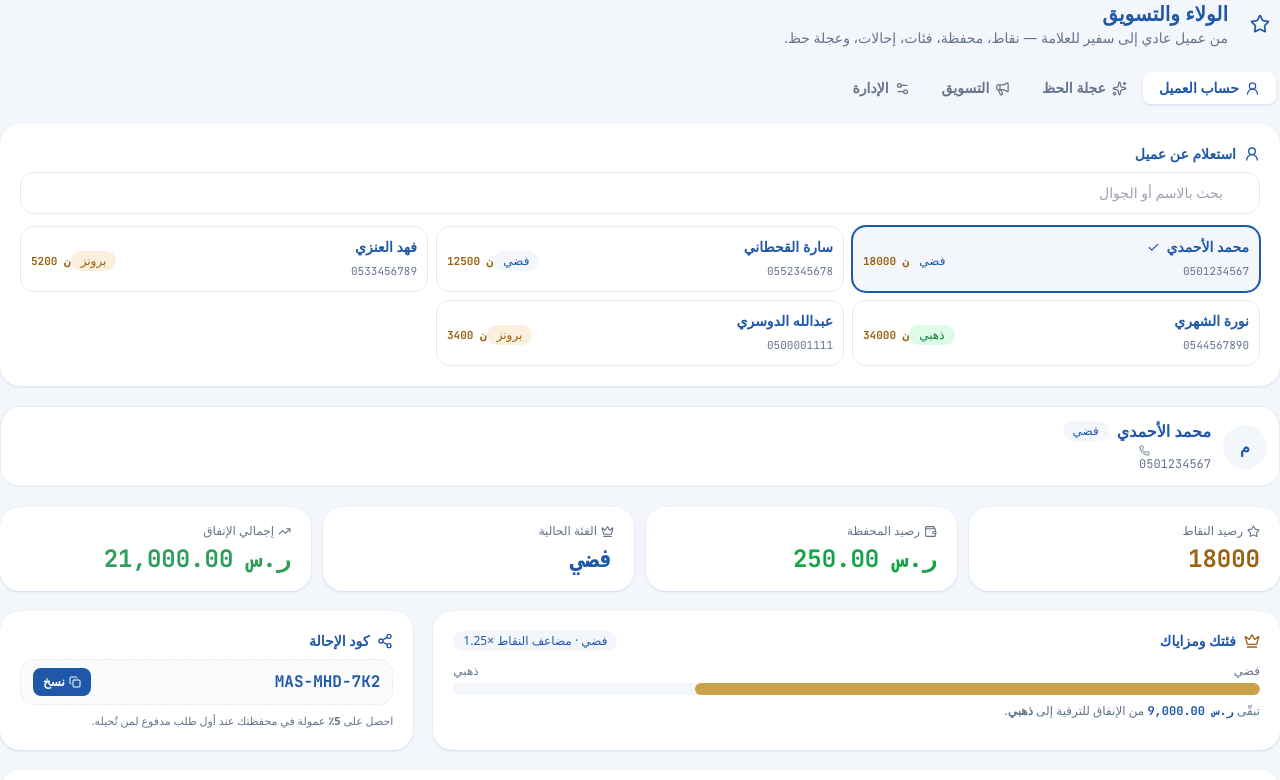
Test case: loyalty edit forms open with the item values › campaign edit is prefilled
Click the button "التسويق" at (976, 88), box [926,72,1026,104]
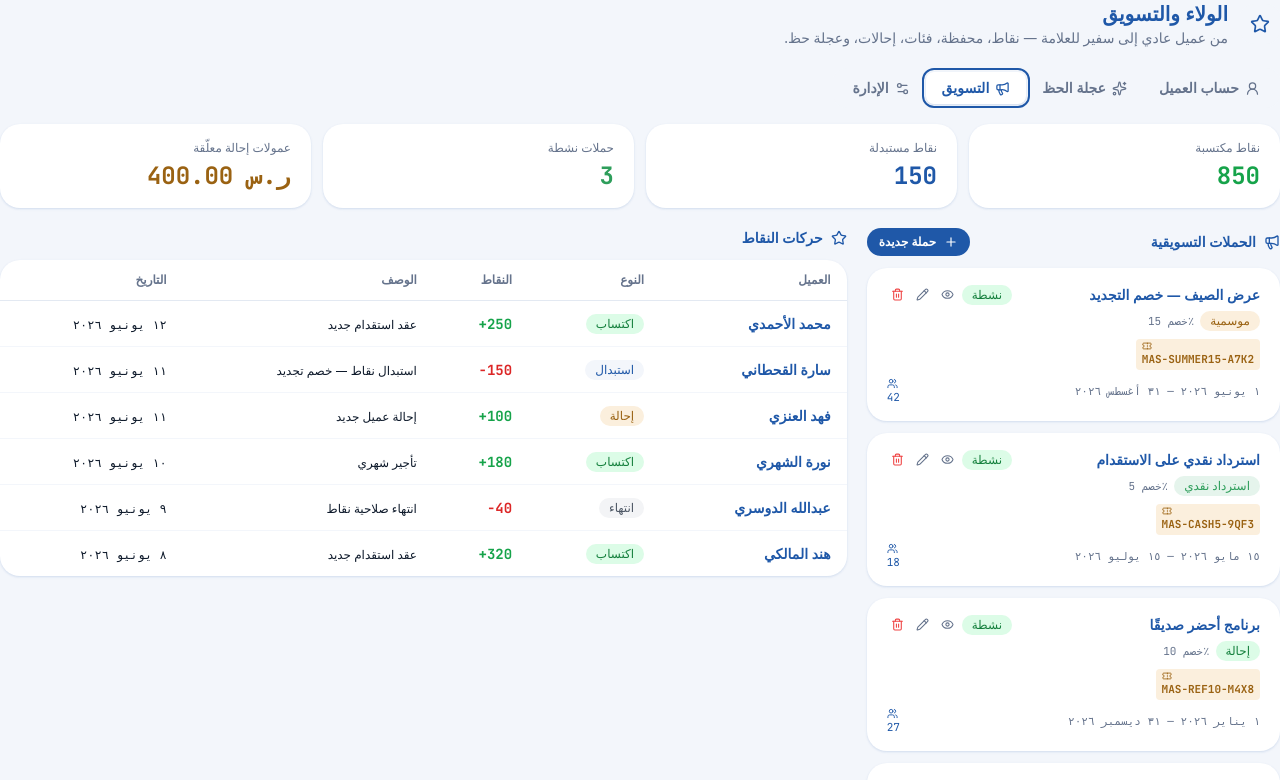
Click the button named "تعديل" in the row of "برنامج أحضر صديقًا" at (922, 624), box [912,614,933,635]
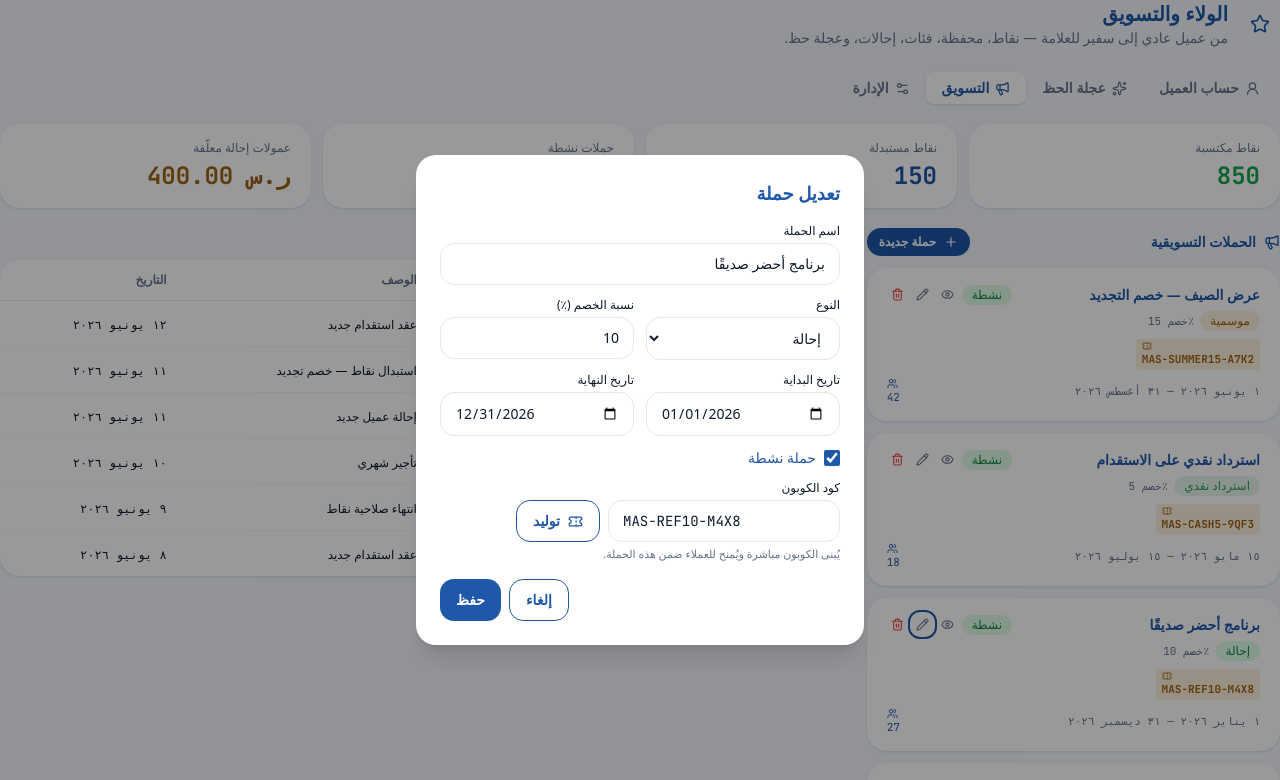
Result: the field showing "برنامج أحضر صديقًا" below "اسم الحملة" is shown at [440,243,840,285]
Result: the field showing "MAS-REF10-M4X8" below "كود الكوبون" is shown at [608,500,840,542]
